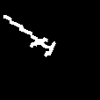double_crochet: (4, 15, 55, 55)
